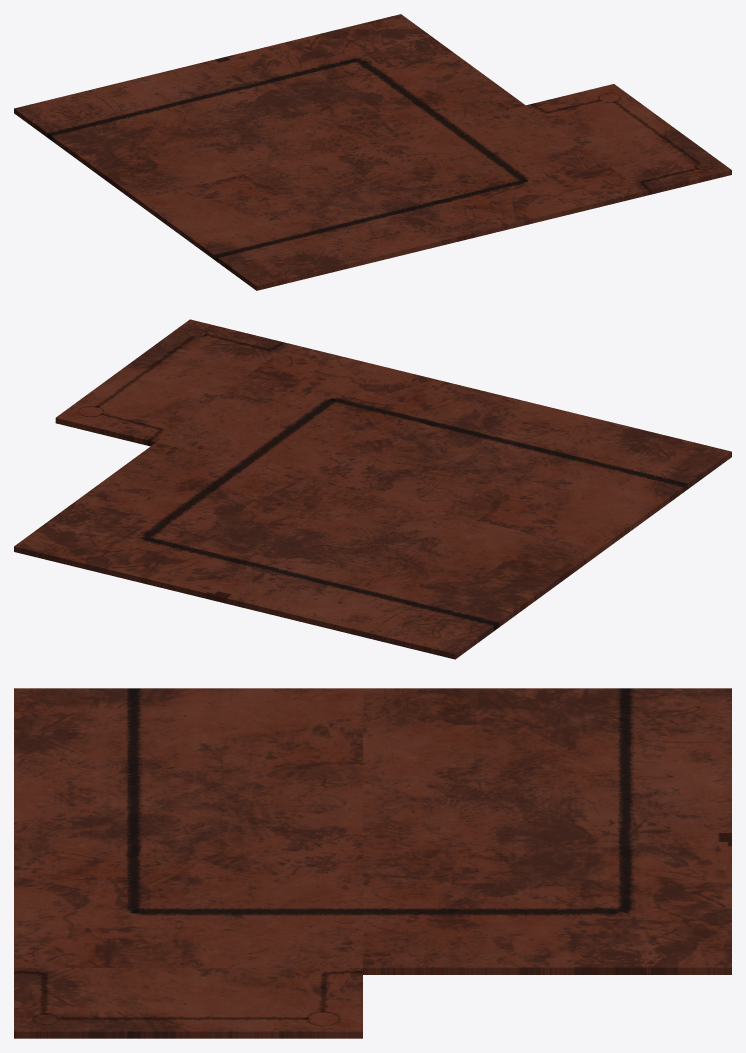
File: SM_PattenFloor01E.fbx
3 views of the same model, one above another, from view 1: azimuth 30°, elevation 25°; view 2: azimuth 150°, elevation 25°; view 3: azimuth 270°, elevation 25° (orthographic). The views are drawn at different scales.
Parts seen in each view (by area): view 1: SM_PattenFloor01E; view 2: SM_PattenFloor01E; view 3: SM_PattenFloor01E.
Boxes of the visible parts, x1,y1,x2,y2 form: SM_PattenFloor01E: [14, 14, 731, 290]; SM_PattenFloor01E: [14, 319, 731, 659]; SM_PattenFloor01E: [14, 688, 731, 1038].
Size of the model in its own units: 640 by 565 by 6.17.
Materials: 1 (1 with a texture image).
